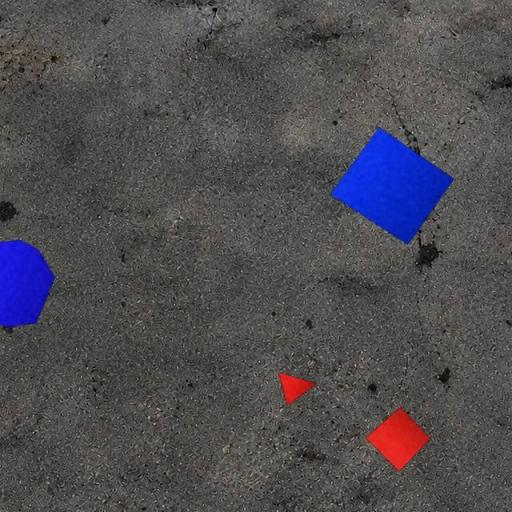BLUE_SQUARE: (330, 127, 454, 246)
RED_SQUARE: (366, 406, 431, 473)
